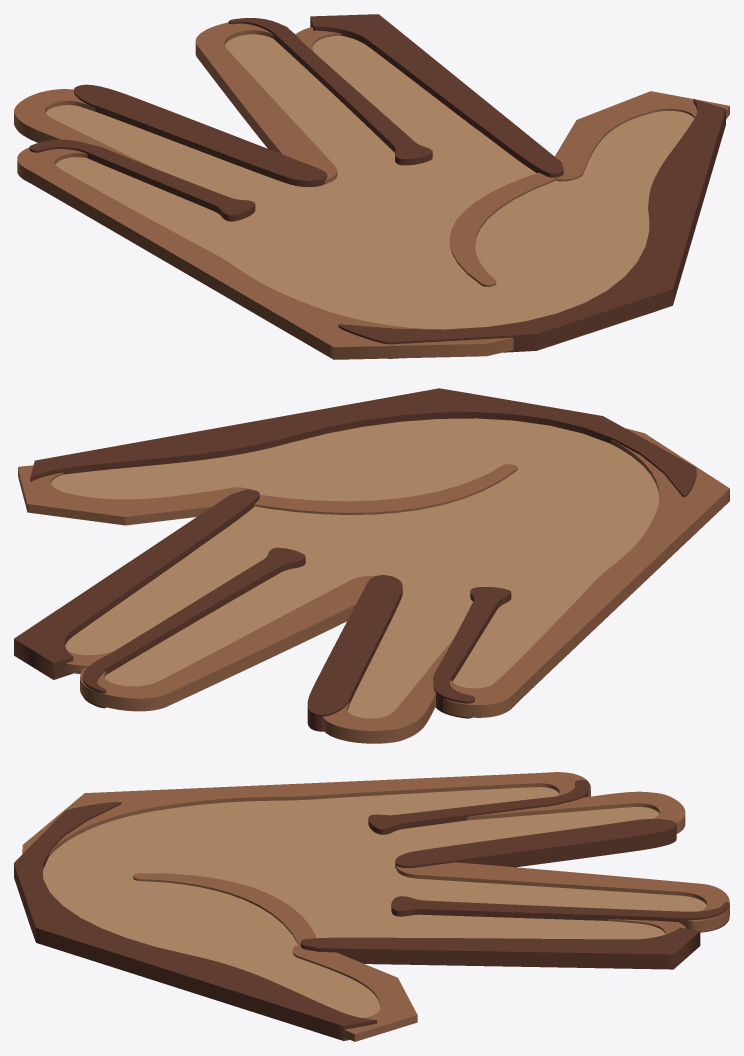
The model's file is emoji_u1f596_1f3fd.glb.
The picture shows the model from 3 angles, top to bottom: view 1: azimuth 30°, elevation 25°; view 2: azimuth 150°, elevation 25°; view 3: azimuth 270°, elevation 25°; orthographic projection. The views are drawn at different scales.
Visible parts, largest first — view 1: emoji_u1f596_1f3fd; view 2: emoji_u1f596_1f3fd; view 3: emoji_u1f596_1f3fd.
Part boxes in pixels (x1,y1,x2,y2): emoji_u1f596_1f3fd: [14, 14, 729, 359]; emoji_u1f596_1f3fd: [14, 388, 729, 743]; emoji_u1f596_1f3fd: [14, 772, 729, 1041].
Bounding box in the file's own units: 0.0299 × 0.0008 × 0.0348.
